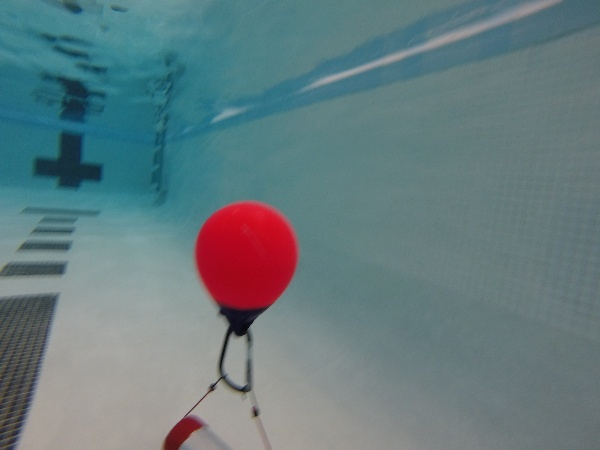buoy_red: (189, 201, 303, 338)
